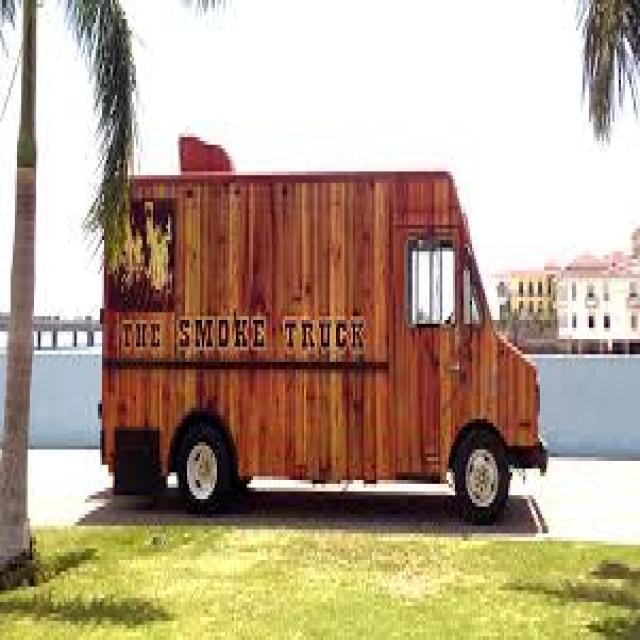Smoke: (175, 308, 272, 358)
